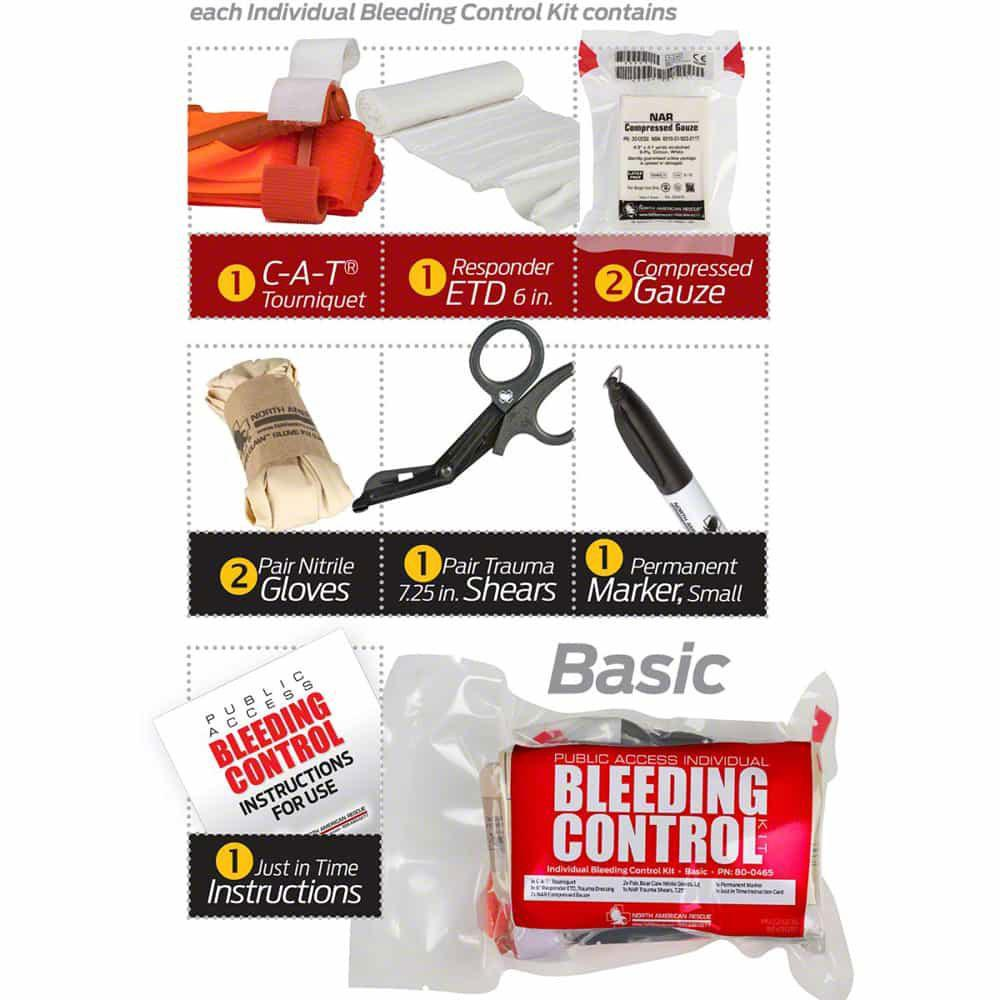gauze: (358, 56, 586, 239)
scissors: (349, 319, 579, 516)
